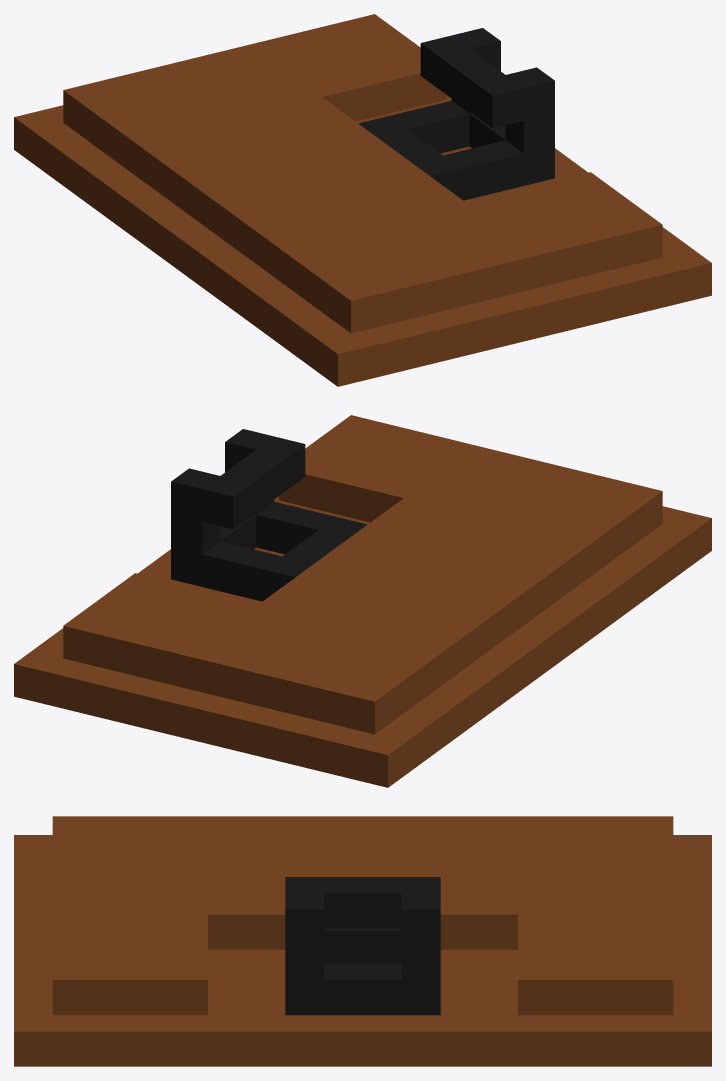
The model's file is KidsRoom-0.obj.
The picture shows the model from 3 angles, top to bottom: view 1: azimuth 30°, elevation 25°; view 2: azimuth 150°, elevation 25°; view 3: azimuth 270°, elevation 25°; orthographic projection. The views are drawn at different scales.
Size of the model in its own units: 1.2 by 0.4 by 1.8.
1 material, 1 textured.
